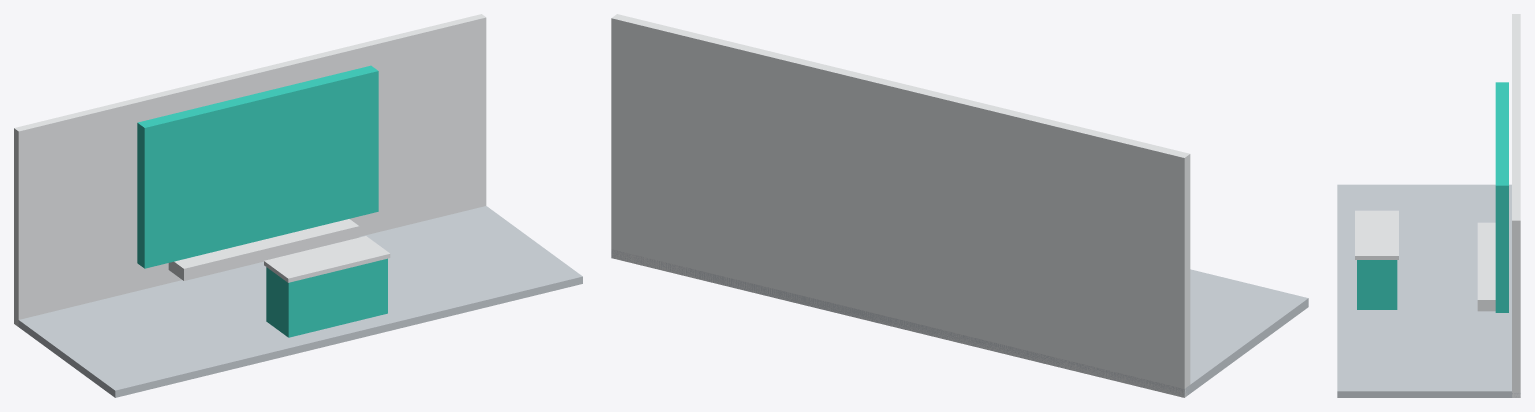
3 renders of one model, left to right at view 1: azimuth 30°, elevation 25°; view 2: azimuth 150°, elevation 25°; view 3: azimuth 270°, elevation 25°, orthographic. The views are drawn at different scales.
Visible parts, largest first — view 1: Exhibition Booth Concept; view 2: Exhibition Booth Concept; view 3: Exhibition Booth Concept.
Boxes of the visible parts, x1=… form: Exhibition Booth Concept: x1=14, y1=14, x2=582, y2=397; Exhibition Booth Concept: x1=611, y1=14, x2=1308, y2=397; Exhibition Booth Concept: x1=1337, y1=14, x2=1520, y2=397.
Bounding box in the file's own units: 8 × 3.2 × 3.
